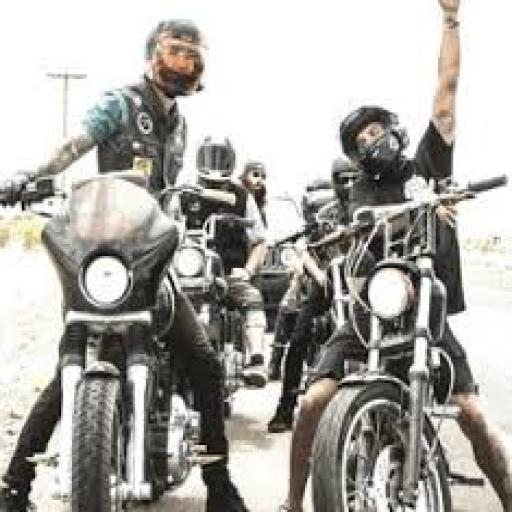overloading: (0, 0, 512, 510), (0, 167, 253, 512)
